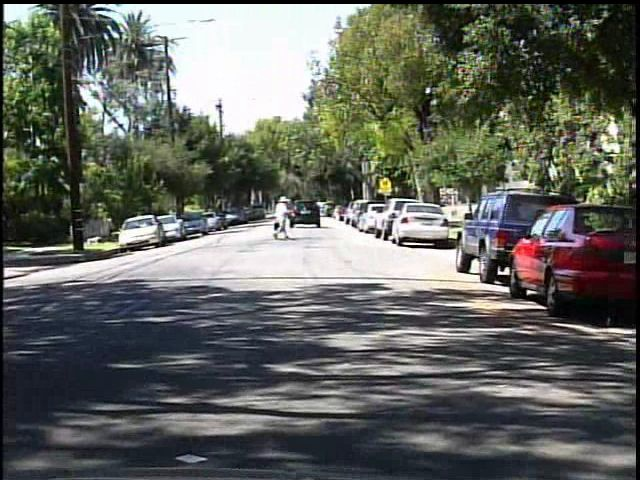person: (269, 195, 296, 244)
